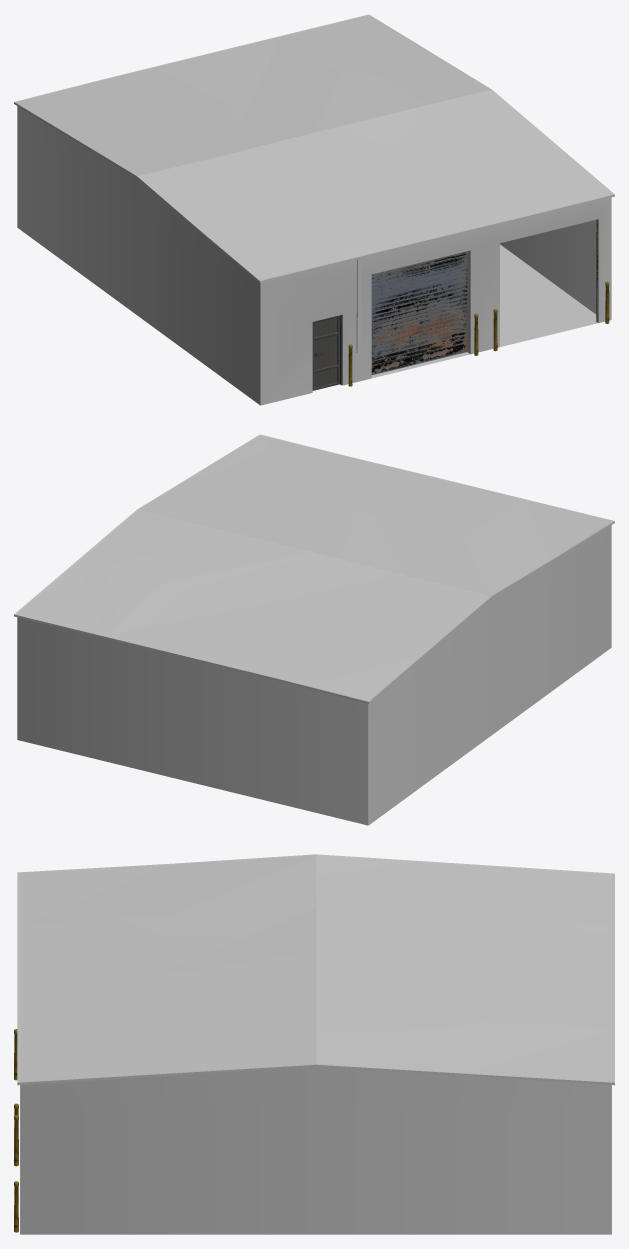
File: ware.fbx
3 views of the same model, one above another, from view 1: azimuth 30°, elevation 25°; view 2: azimuth 150°, elevation 25°; view 3: azimuth 270°, elevation 25° (orthographic). The views are drawn at different scales.
Parts seen in each view (by area): view 1: warehouseRoof, buildWarehouse, wareHouse-Gate, warehouseFloor, internalArea, wareHousedoor; view 2: warehouseRoof, buildWarehouse; view 3: warehouseRoof, buildWarehouse.
Part boxes in pixels (x1,y1,x2,y2): warehouseRoof: (14, 14, 614, 282); buildWarehouse: (17, 106, 611, 405); wareHouse-Gate: (371, 251, 467, 374); warehouseFloor: (371, 244, 597, 378); internalArea: (500, 220, 596, 314); wareHousedoor: (312, 315, 341, 390); warehouseRoof: (14, 434, 614, 703); buildWarehouse: (17, 525, 611, 825); warehouseRoof: (17, 854, 614, 1085); buildWarehouse: (20, 1067, 611, 1234).
Size of the model in its own units: 1010 by 385 by 1219.
